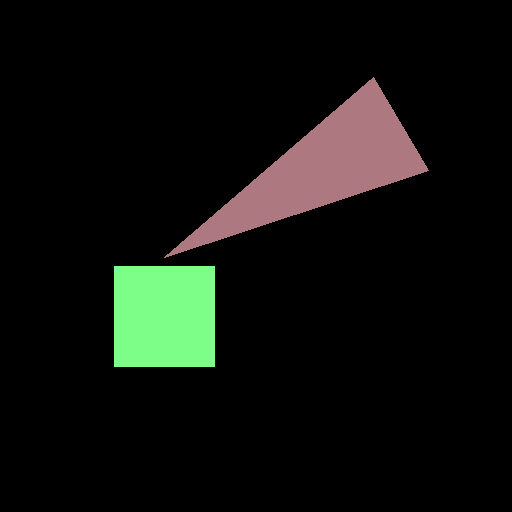square: (114, 266, 214, 366)
triangle: (164, 77, 428, 257)
